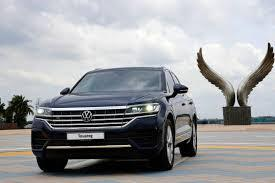volkswagen: (80, 108, 95, 124)
